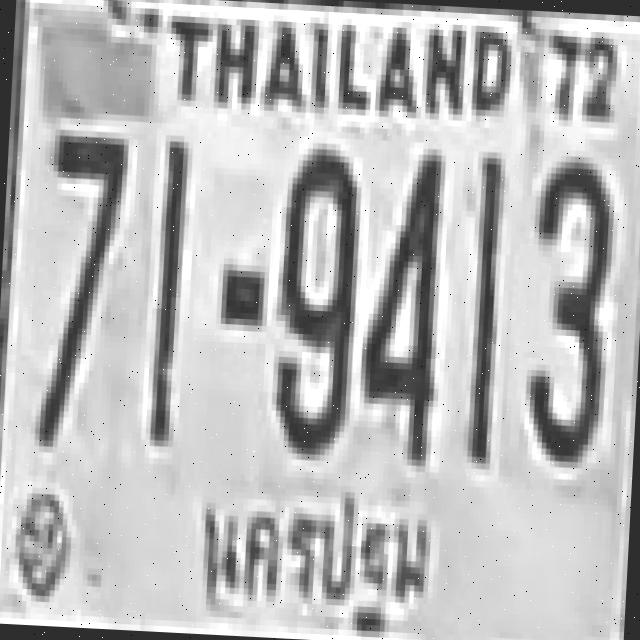0: (275, 141, 359, 354)
1: (466, 152, 502, 392)
3: (523, 152, 612, 454)
4: (356, 143, 444, 451), (357, 146, 444, 412), (361, 143, 442, 380)
7: (42, 130, 125, 312)
9: (270, 148, 358, 450)
NakhonPathom: (175, 467, 443, 640)
